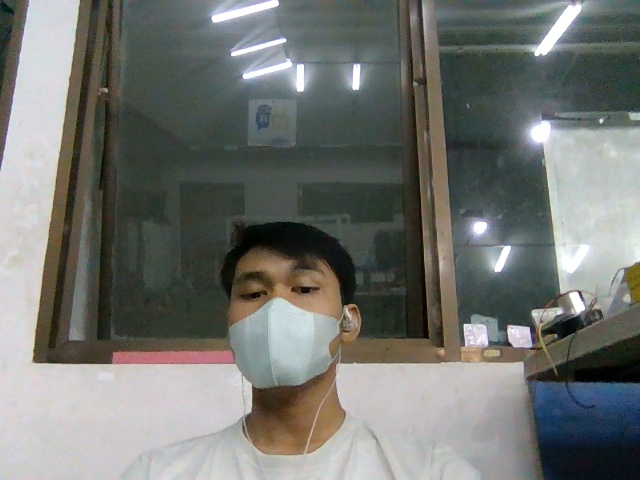mask_on: (228, 298, 343, 389)
